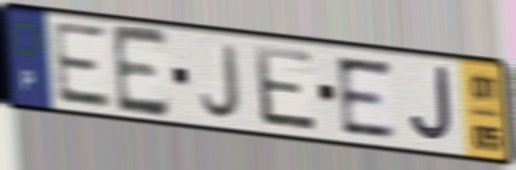E: (251, 41, 322, 135), (108, 21, 173, 121), (49, 18, 116, 111), (332, 54, 400, 140)
J: (406, 64, 456, 147), (198, 41, 243, 122)
